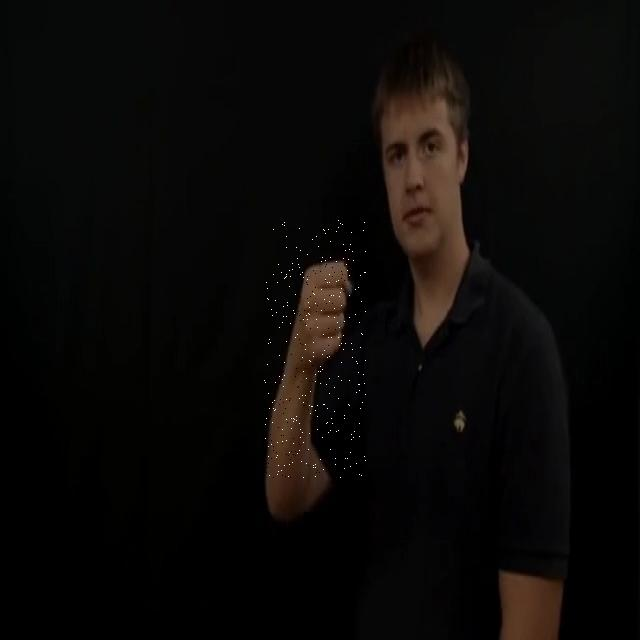milk: (264, 220, 366, 478)
